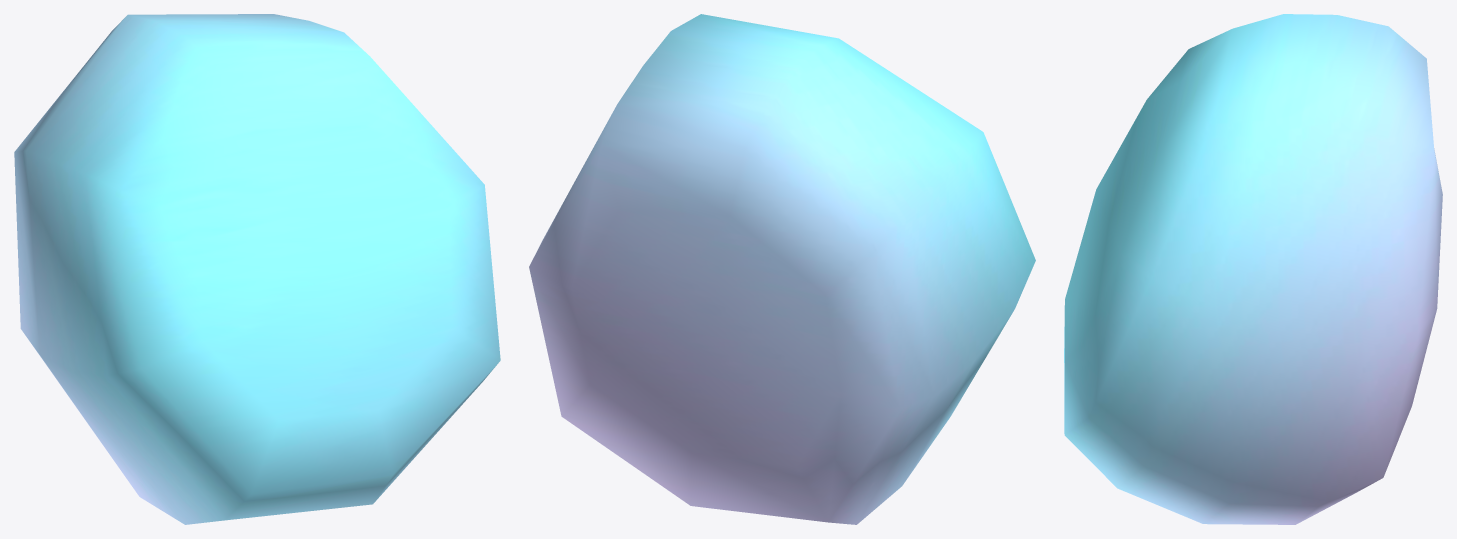
3 renders of one model, left to right at view 1: azimuth 30°, elevation 25°; view 2: azimuth 150°, elevation 25°; view 3: azimuth 270°, elevation 25°, orthographic. The views are drawn at different scales.
Visible parts, largest first — view 1: Cube; view 2: Cube; view 3: Cube.
Boxes of the visible parts, box(x1,y1,x2,y2) form: Cube: box(14, 14, 500, 524); Cube: box(529, 14, 1035, 524); Cube: box(1064, 14, 1442, 524).
Size of what is drawn, in the model's own units: 1.98 by 2.36 by 1.75.
Materials: 1 (1 with a texture image).
